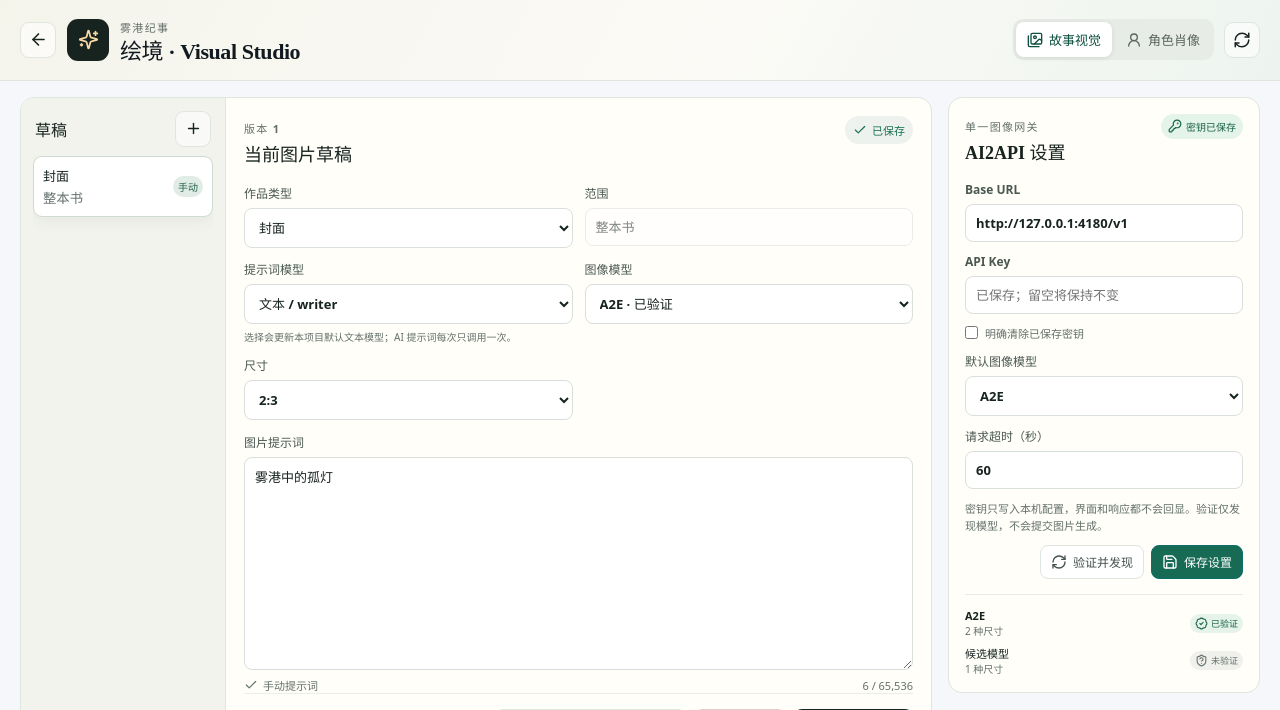
Test: ArtworkWorkspace › restores URL state, exposes only valid scopes, and switches story/character drafts
The width and height of the screenshot is (1280, 710).
Expected: the dropdown named "作品类型" shows "封面", [244, 208, 572, 248]
Expected: the field named "封面范围" holds "整本书", [584, 208, 913, 246]
Click the tab "角色肖像" at coordinates (1163, 40), box [1115, 22, 1211, 58]
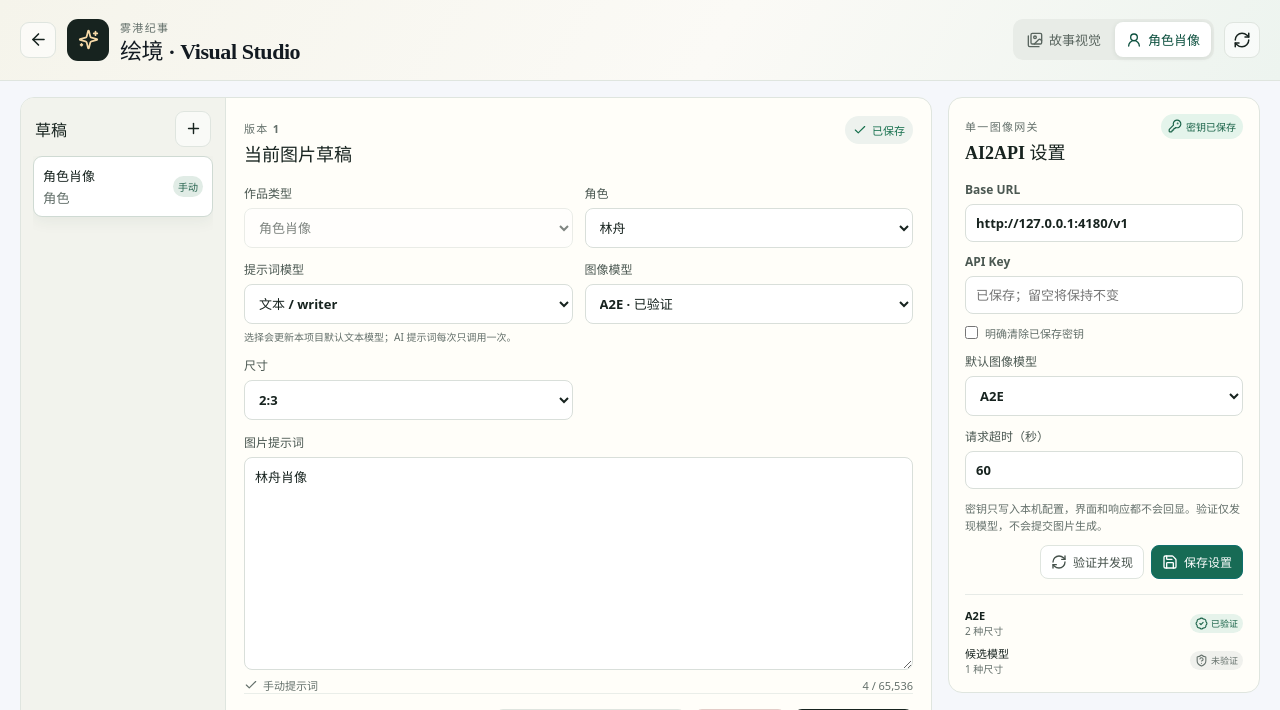
Expected: the dropdown named "作品类型" shows "角色肖像", [244, 208, 572, 248]
Expected: the dropdown named "肖像角色" shows "林舟", [584, 208, 913, 248]
